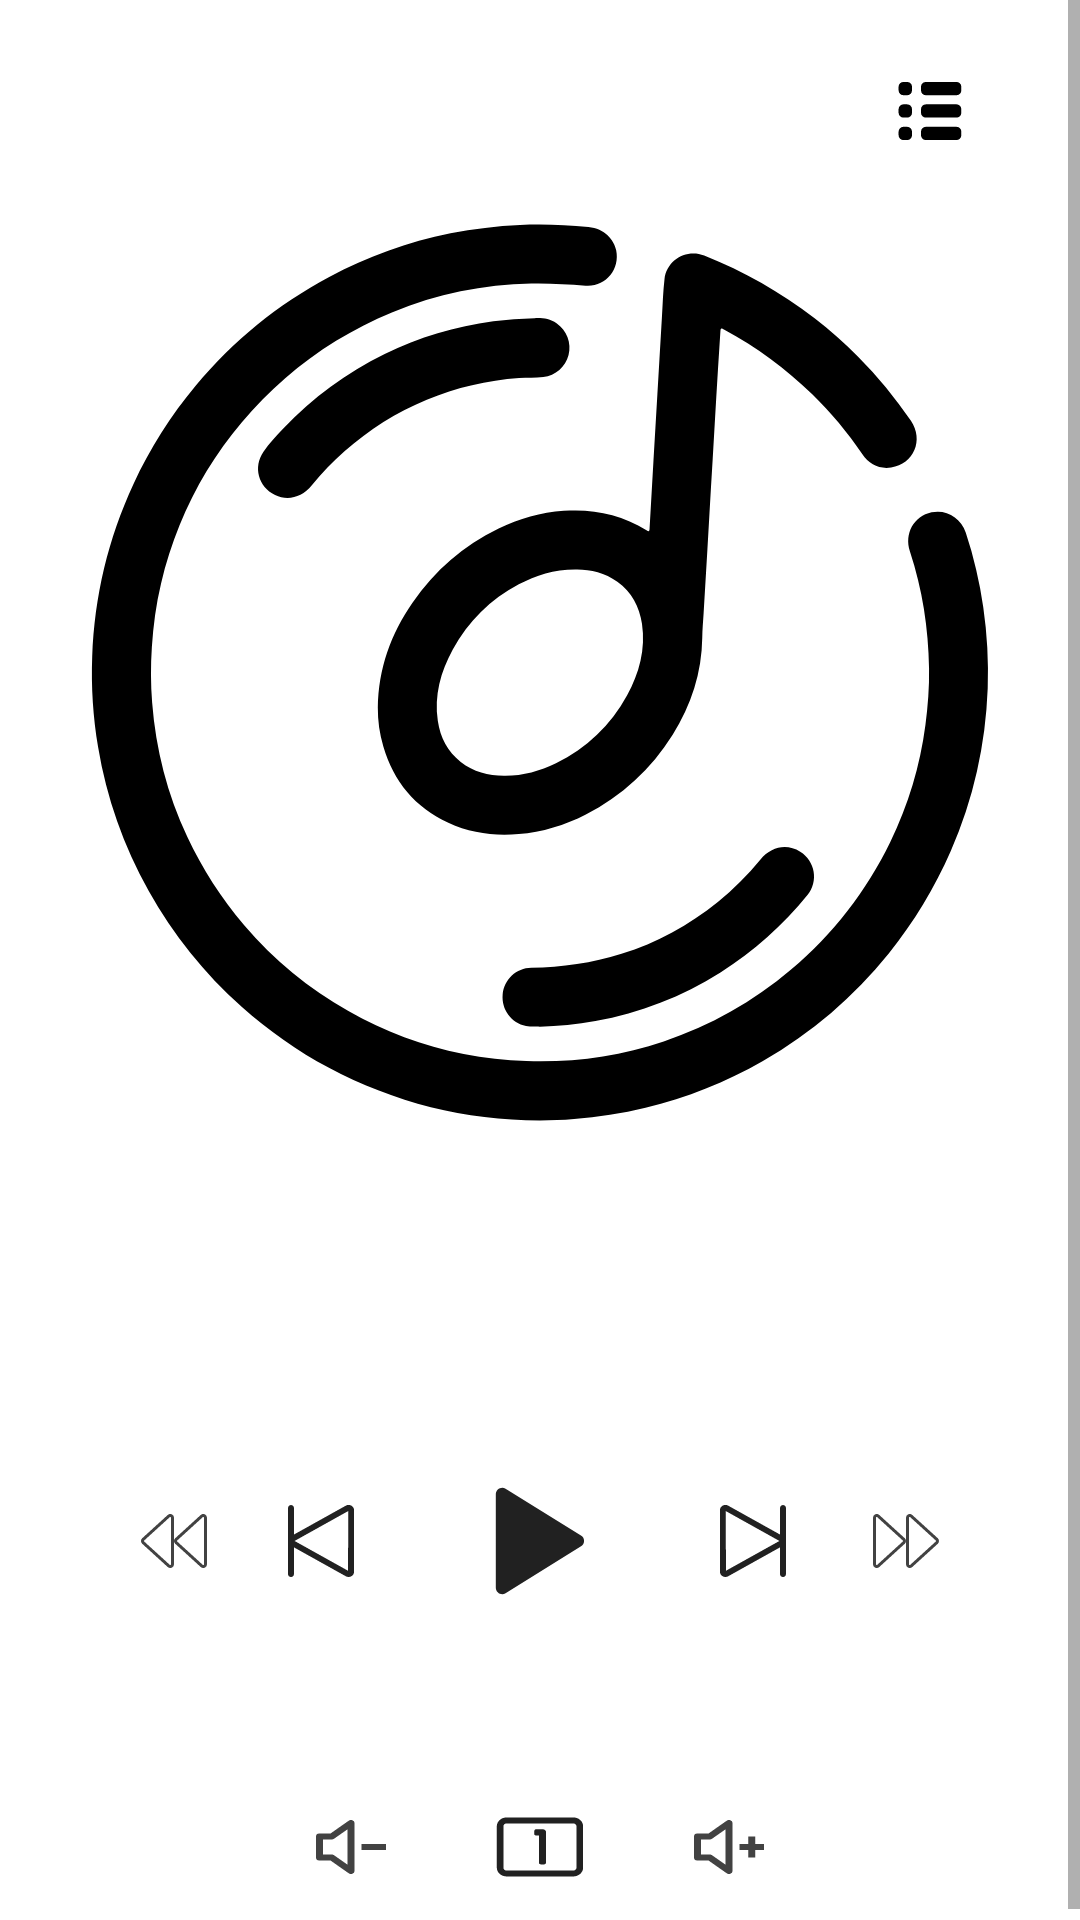

Point at icon controls on the screen. Image size 1080*1920, points as (x=x, y=y).
voludec: (x=351, y=1847)
voluinc: (x=729, y=1847)
播放音频: (x=539, y=1541)
